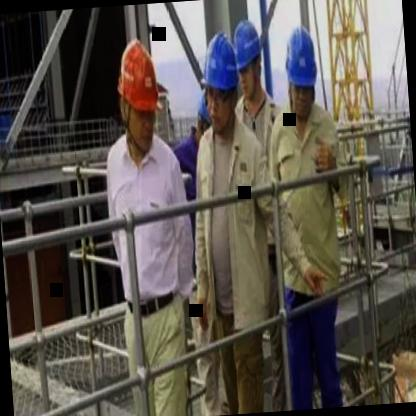helmet: (112, 29, 164, 154), (206, 21, 258, 127), (276, 16, 325, 126), (230, 12, 266, 100)
